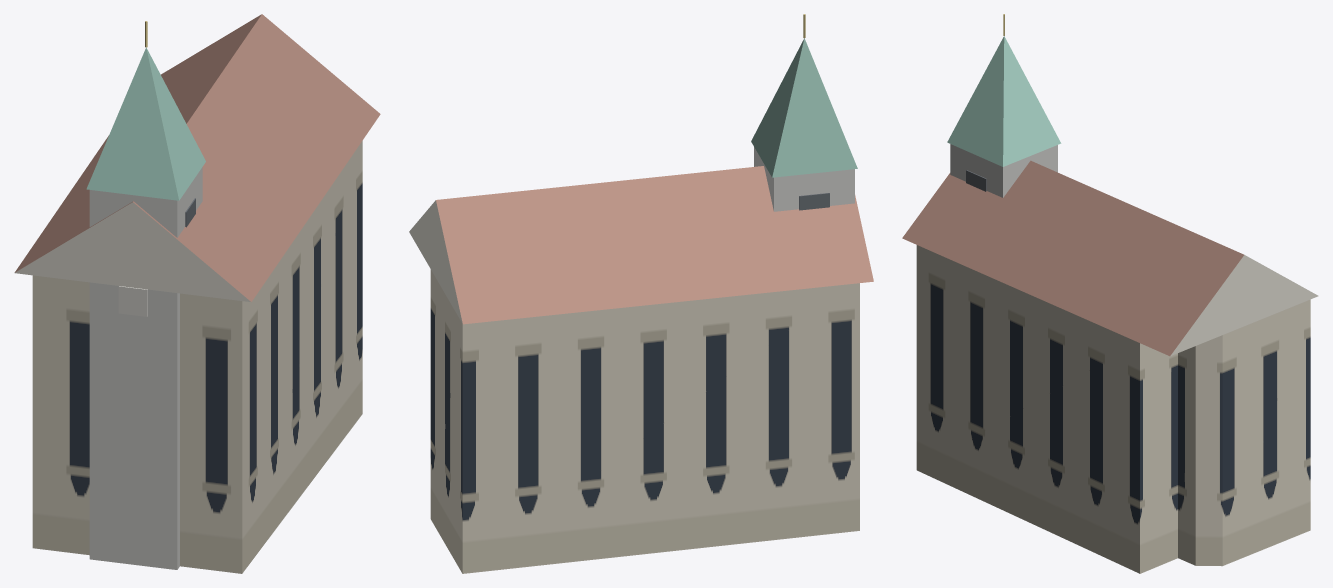
Rendered from k93_dreifaltigkeit.glb.
The picture shows the model from 3 angles, left to right: view 1: azimuth 30°, elevation 25°; view 2: azimuth 150°, elevation 25°; view 3: azimuth 270°, elevation 25°; orthographic projection. The views are drawn at different scales.
Size of the model in its own units: 32.13 by 36.8 by 31.72.
3 materials, 1 textured.
